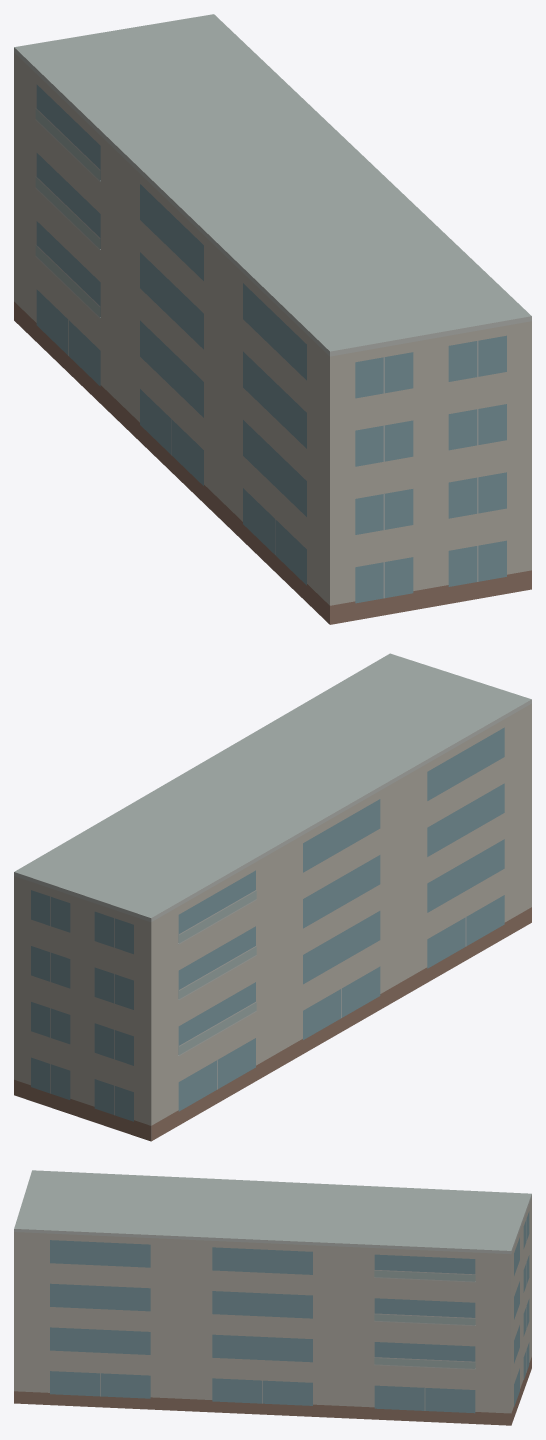
File: survey-upis-32504071.glb
3 views of the same model, one above another, from view 1: azimuth 30°, elevation 25°; view 2: azimuth 150°, elevation 25°; view 3: azimuth 270°, elevation 25° (orthographic). The views are drawn at different scales.
Visible parts, largest first — view 1: survey-upis-32504071.tmp; view 2: survey-upis-32504071.tmp; view 3: survey-upis-32504071.tmp.
Boxes of the visible parts, <box> form: survey-upis-32504071.tmp: <box>14,14,531,624</box>; survey-upis-32504071.tmp: <box>14,653,531,1141</box>; survey-upis-32504071.tmp: <box>14,1170,531,1425</box>.
Size of the model in its own units: 13.2 by 13.3 by 35.75.
